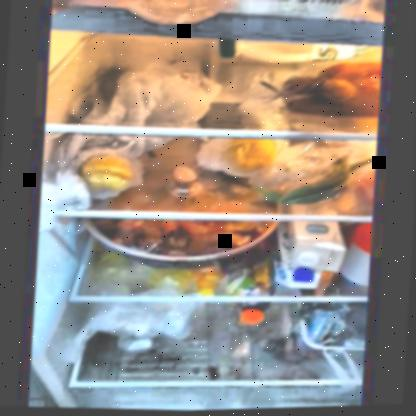carrot: (286, 60, 381, 119)
green_chillies: (249, 158, 356, 210)
lemon: (78, 152, 140, 193), (227, 137, 279, 174)
milk: (275, 219, 344, 292)
